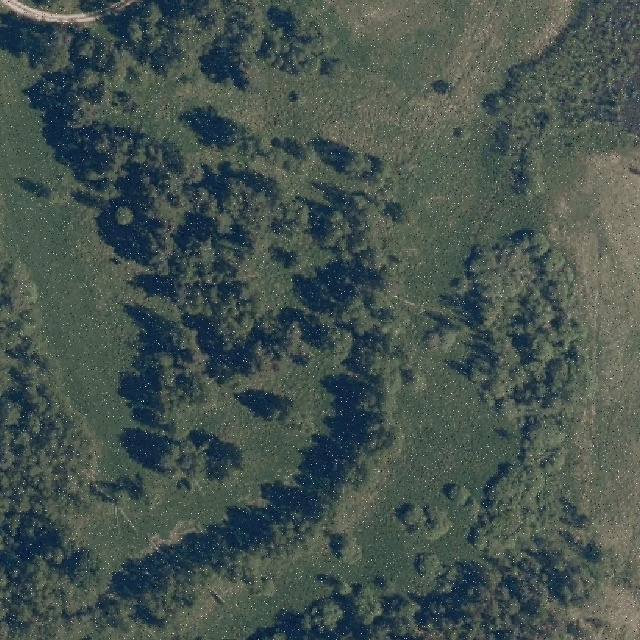vegetation: (0, 0, 418, 623), (263, 234, 622, 640), (0, 255, 138, 640), (487, 0, 640, 191)
